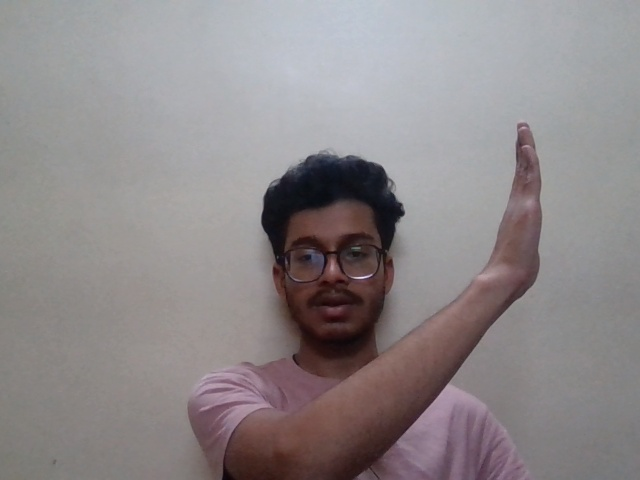fine: (469, 117, 573, 321)
